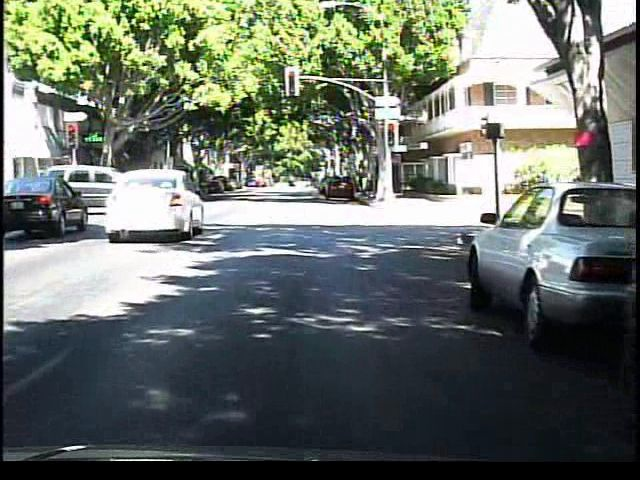person: (75, 164, 100, 208)
